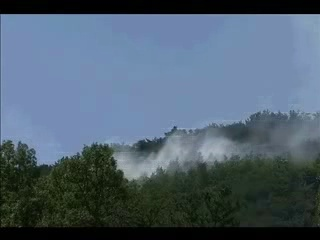smoke: (111, 120, 292, 183), (292, 15, 318, 164)
